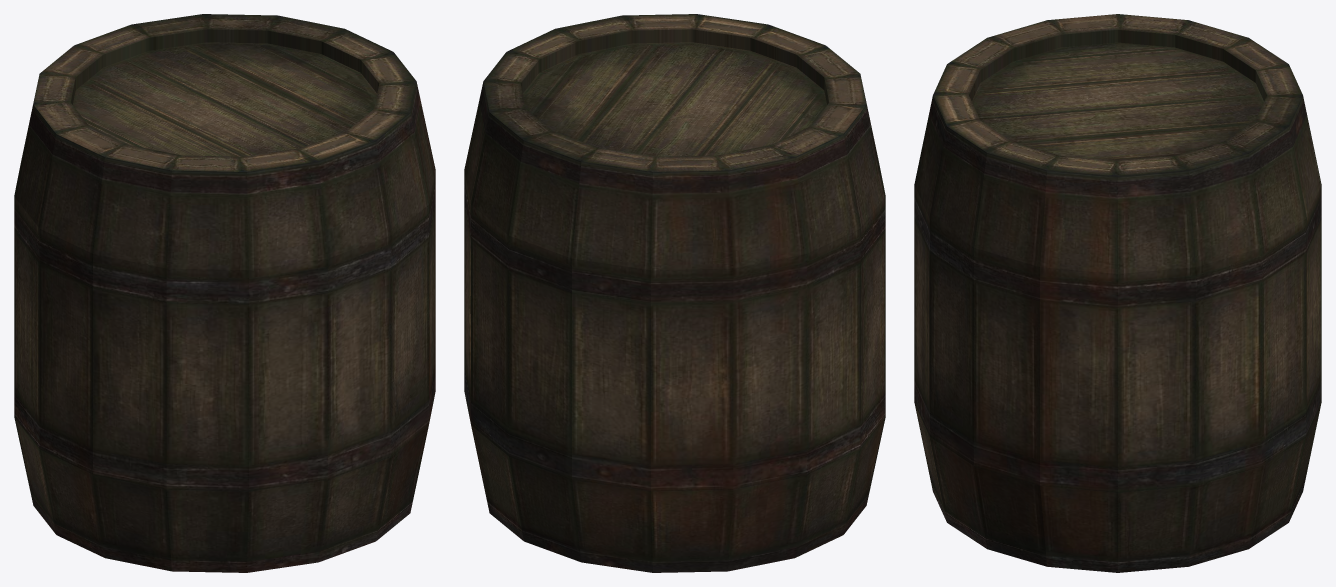
File: barril.fbx
The picture shows the model from 3 angles, left to right: view 1: azimuth 30°, elevation 25°; view 2: azimuth 150°, elevation 25°; view 3: azimuth 270°, elevation 25°; orthographic projection.
Visible parts, largest first — view 1: Barril; view 2: Barril; view 3: Barril.
Boxes of the visible parts, x1=… form: Barril: x1=14, y1=14, x2=435, y2=572; Barril: x1=464, y1=14, x2=885, y2=572; Barril: x1=914, y1=14, x2=1321, y2=572.
Bounding box in the file's own units: 89.63 × 92.56 × 86.18.
1 material, 1 textured.
